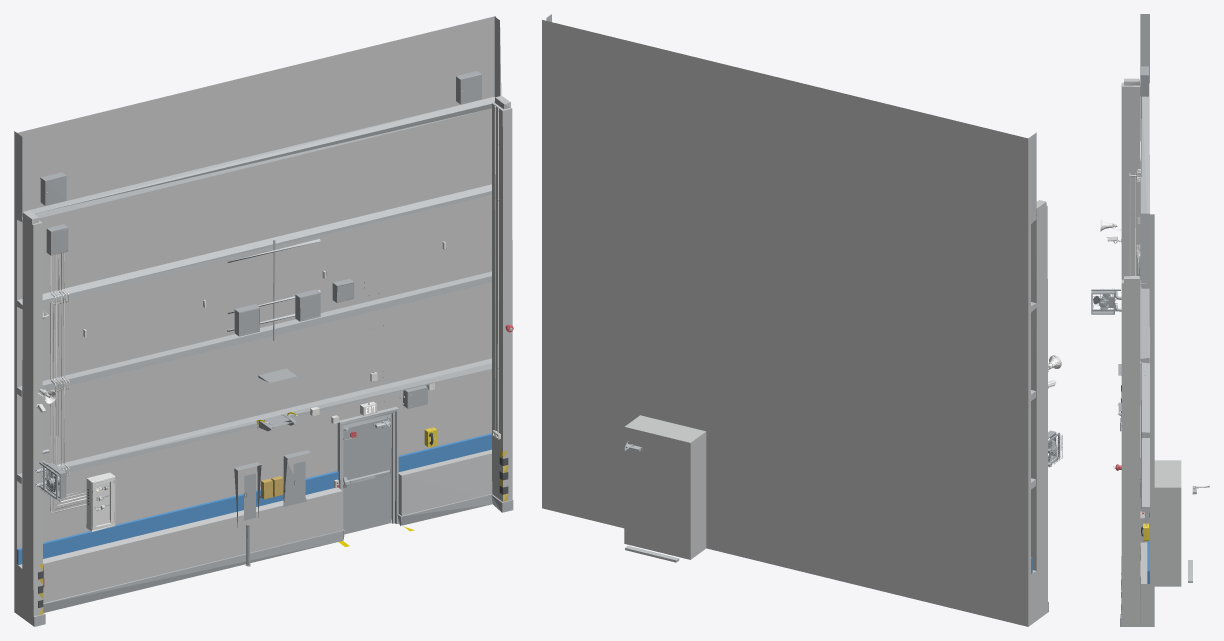
Rendered from galpao-parede.glb.
The picture shows the model from 3 angles, left to right: view 1: azimuth 30°, elevation 25°; view 2: azimuth 150°, elevation 25°; view 3: azimuth 270°, elevation 25°; orthographic projection. The views are drawn at different scales.
Parts seen in each view (by area): view 1: #e6e9eb, #a3abb1, #7f878e, #1f5fbf, #8f979d, #f2f2ee, #f1f3f4, #9aa3aa_1; view 2: #e6e9eb, #a3abb1; view 3: #e6e9eb, #a3abb1, #7f878e, #f2f2ee, #f1f3f4, #9aa3aa_1.
Boxes of the visible parts, x1,y1,x2,y2 form: #e6e9eb: (14,16,512,625); #a3abb1: (17,17,501,528); #7f878e: (39,71,481,566); #1f5fbf: (17,433,491,564); #8f979d: (33,494,513,626); #f2f2ee: (42,106,500,512); #f1f3f4: (36,389,435,531); #9aa3aa_1: (35,91,513,510); #e6e9eb: (542,20,1047,626); #a3abb1: (546,14,1036,562); #e6e9eb: (1121,78,1181,626); #a3abb1: (1137,14,1192,582); #7f878e: (1091,66,1148,497); #f2f2ee: (1116,169,1144,515); #f1f3f4: (1100,220,1141,405); #9aa3aa_1: (1093,214,1209,525).
Size of the model in its own units: 10.03 by 9.6 by 2.5.
